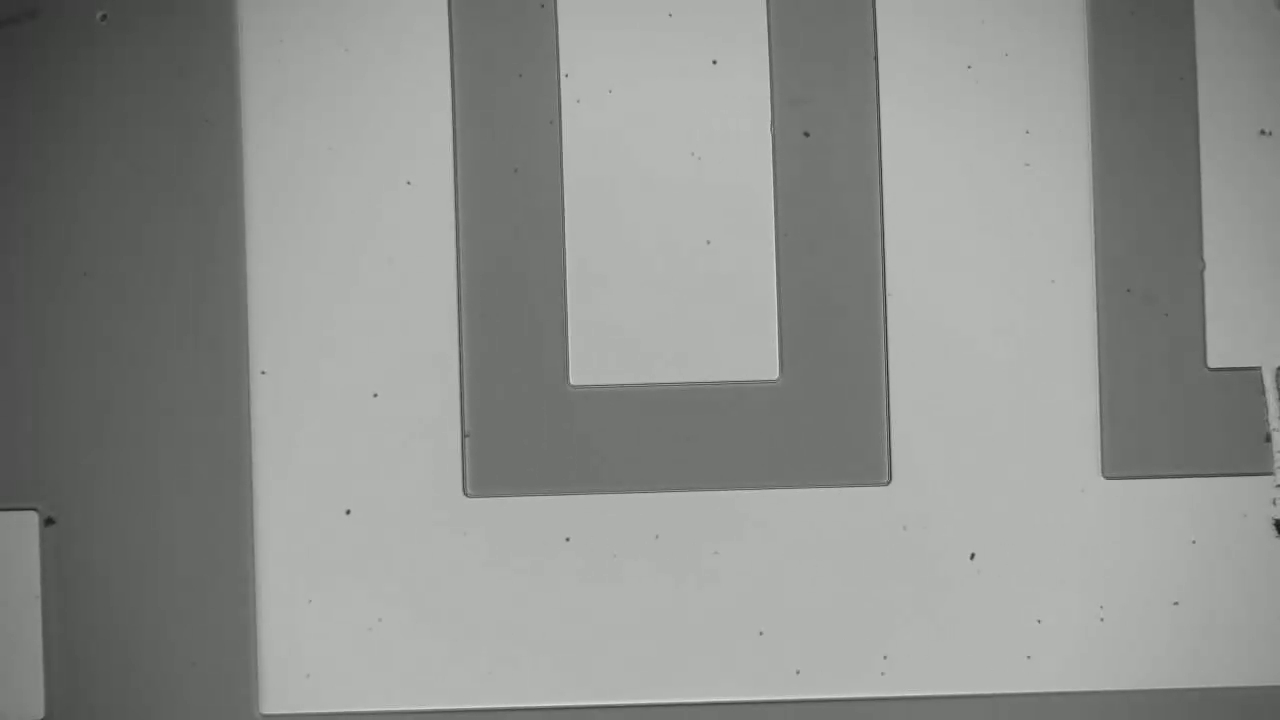Short_circuit: (1244, 350, 1280, 501)
